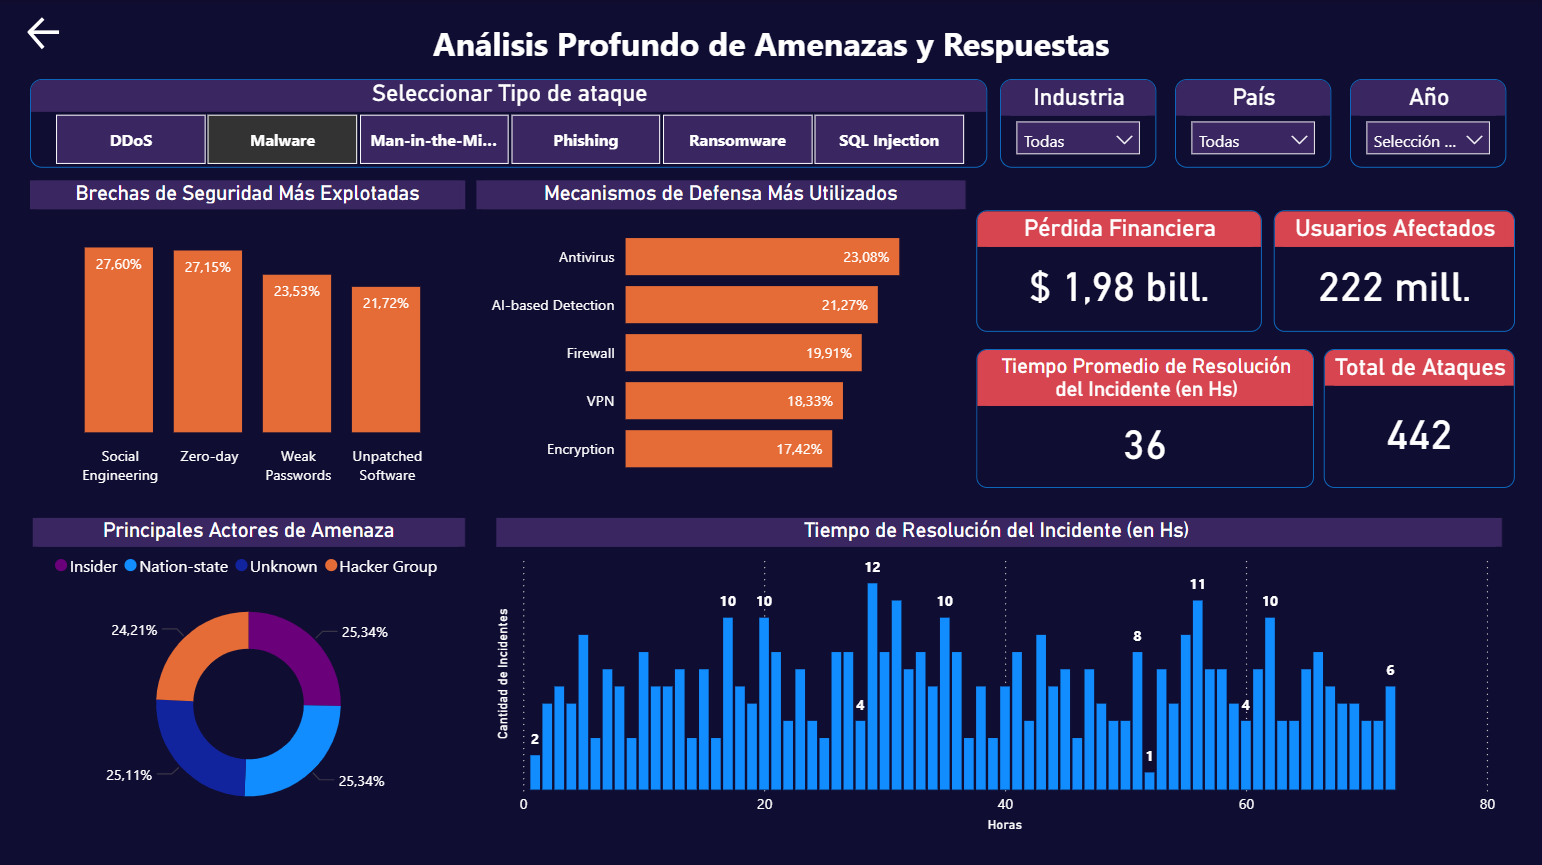

This screenshot's page, from the dashboard's own definition file:
{"tool":"powerbi","page":{"name":"Análisis Profundo de Amenazas y Respuestas","canvas":[1280,720],"ordinal":1},"visuals":[{"type":"actionButton","box":[18.6,10.5,37.2,36],"z":0},{"type":"textbox","box":[316.3,14,646.5,54.7],"z":1000},{"type":"columnChart","title":"Brechas de Seguridad Más Explotadas","fields":{"Y":["Global_Cybersecurity_Threats_2015-2024.Total Incidentes"],"Category":["Global_Cybersecurity_Threats_2015-2024.Security Vulnerability Type"]},"box":[24.4,150.7,360.7,260.2],"z":2000},{"type":"slicer","title":"Seleccionar Tipo de ataque","fields":{"Values":["Global_Cybersecurity_Threats_2015-2024.Attack Type"]},"box":[24.6,65.9,793.9,73.7],"z":3000},{"type":"donutChart","title":"Principales Actores de Amenaza","fields":{"Category":["Global_Cybersecurity_Threats_2015-2024.Attack Source"],"Y":["Global_Cybersecurity_Threats_2015-2024.Total Incidentes"]},"box":[26.6,429.9,358.4,260.2],"z":4000},{"type":"clusteredBarChart","title":"Mecanismos de Defensa Más Utilizados","fields":{"Category":["Global_Cybersecurity_Threats_2015-2024.Defense Mechanism Used"],"Y":["Global_Cybersecurity_Threats_2015-2024.Total Incidentes"]},"box":[395.3,150.7,405.3,260.2],"z":5000},{"type":"card","title":"Total de Ataques","fields":{"Values":["Global_Cybersecurity_Threats_2015-2024.Total Incidentes"]},"box":[1097.5,290.3,158.6,115],"z":6000},{"type":"card","title":"Usuarios Afectados","fields":{"Values":["Global_Cybersecurity_Threats_2015-2024.Total de usuarios afectados"]},"box":[1056.2,175.3,199.9,100.5],"z":7000},{"type":"card","title":"Pérdida Financiera","fields":{"Values":["Global_Cybersecurity_Threats_2015-2024.Total Perdida Financiera"]},"box":[809.6,175.3,236.7,100.5],"z":8000},{"type":"card","title":"Tiempo Promedio de Resolución del Incidente (en Hs)","fields":{"Values":["Global_Cybersecurity_Threats_2015-2024.Tiempo Promedio Resolucion"]},"box":[809.4,290.3,280.3,115],"z":9000},{"type":"columnChart","title":"Tiempo de Resolución del Incidente (en Hs)","fields":{"Y":["CountNonNull(Global_Cybersecurity_Threats_2015-2024.Attack Type)"],"Category":["Global_Cybersecurity_Threats_2015-2024.Incident Resolution Time (in Hours)"]},"box":[411.6,429.9,833.7,260.4],"z":10000},{"type":"slicer","title":"Año","fields":{"Values":["Global_Cybersecurity_Threats_2015-2024.Year"]},"box":[1119.6,65.9,129.5,73.7],"z":11000},{"type":"slicer","title":"País","fields":{"Values":["Global_Cybersecurity_Threats_2015-2024.Country"]},"box":[973.7,65.9,129.5,73.7],"z":12000},{"type":"slicer","title":"Industria","fields":{"Values":["Global_Cybersecurity_Threats_2015-2024.Target Industry"]},"box":[828.5,65.9,129.5,73.7],"z":13000}]}

Visuals, with their boxes in screenshot pixels (x1, y1, x2, y2), scaled from the page's 1280x720 canvas onto the 1542x865 screenshot:
actionButton: <box>22,13,67,56</box>
textbox: <box>381,17,1160,83</box>
"Brechas de Seguridad Más Explotadas" columnChart: <box>29,181,464,494</box>
"Seleccionar Tipo de ataque" slicer: <box>30,79,986,168</box>
"Principales Actores de Amenaza" donutChart: <box>32,516,464,829</box>
"Mecanismos de Defensa Más Utilizados" clusteredBarChart: <box>476,181,964,494</box>
"Total de Ataques" card: <box>1322,349,1513,487</box>
"Usuarios Afectados" card: <box>1272,211,1513,331</box>
"Pérdida Financiera" card: <box>975,211,1260,331</box>
"Tiempo Promedio de Resolución del Incidente (en Hs)" card: <box>975,349,1313,487</box>
"Tiempo de Resolución del Incidente (en Hs)" columnChart: <box>496,516,1500,829</box>
"Año" slicer: <box>1349,79,1505,168</box>
"País" slicer: <box>1173,79,1329,168</box>
"Industria" slicer: <box>998,79,1154,168</box>
